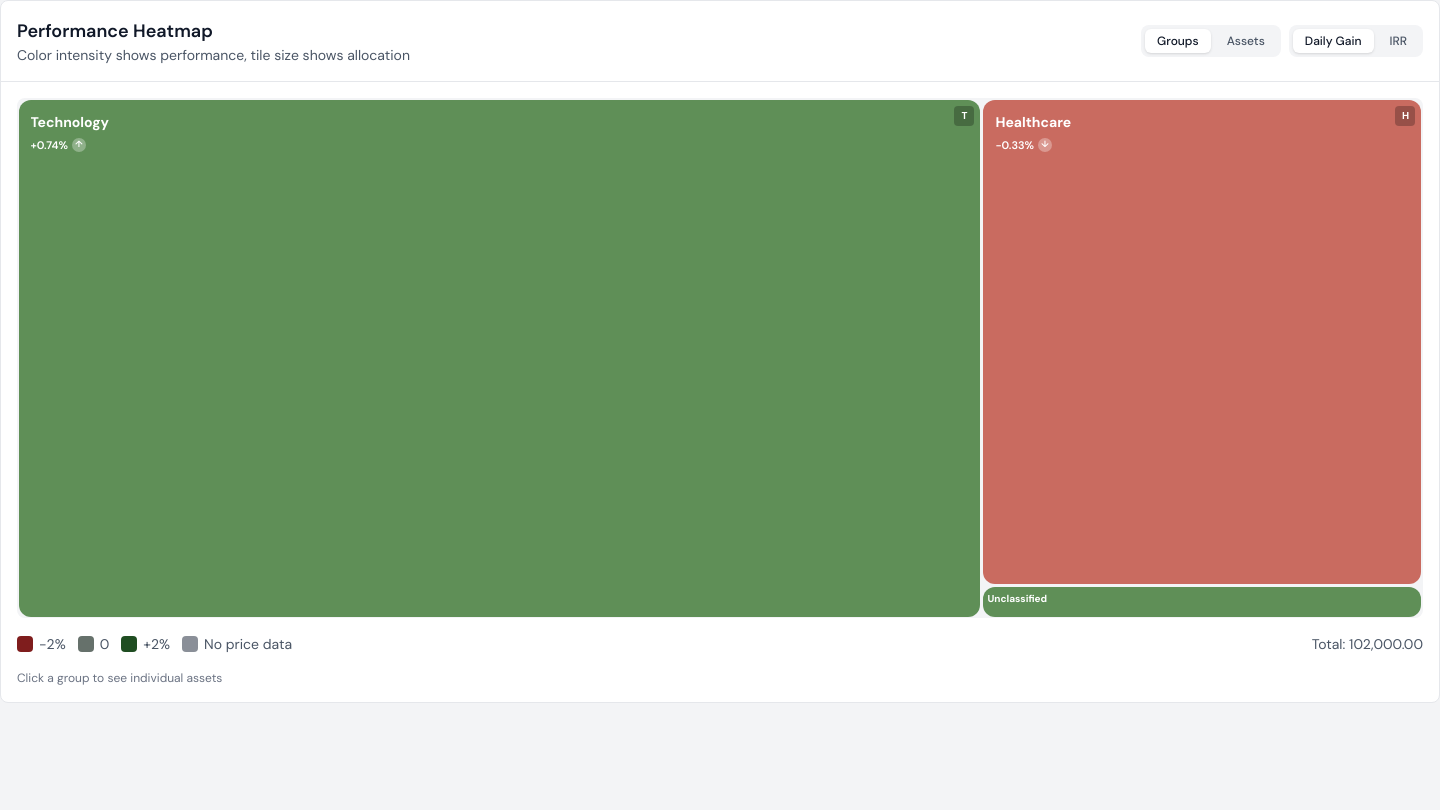
PerformanceHeatmap › Groups mode opens a dialog listing a sector group's assets on click, merging assets across differing asset categories
Click the element with test id "heatmap-tile-groups-Technology" at (499, 358), box 18,100 -> 980,616
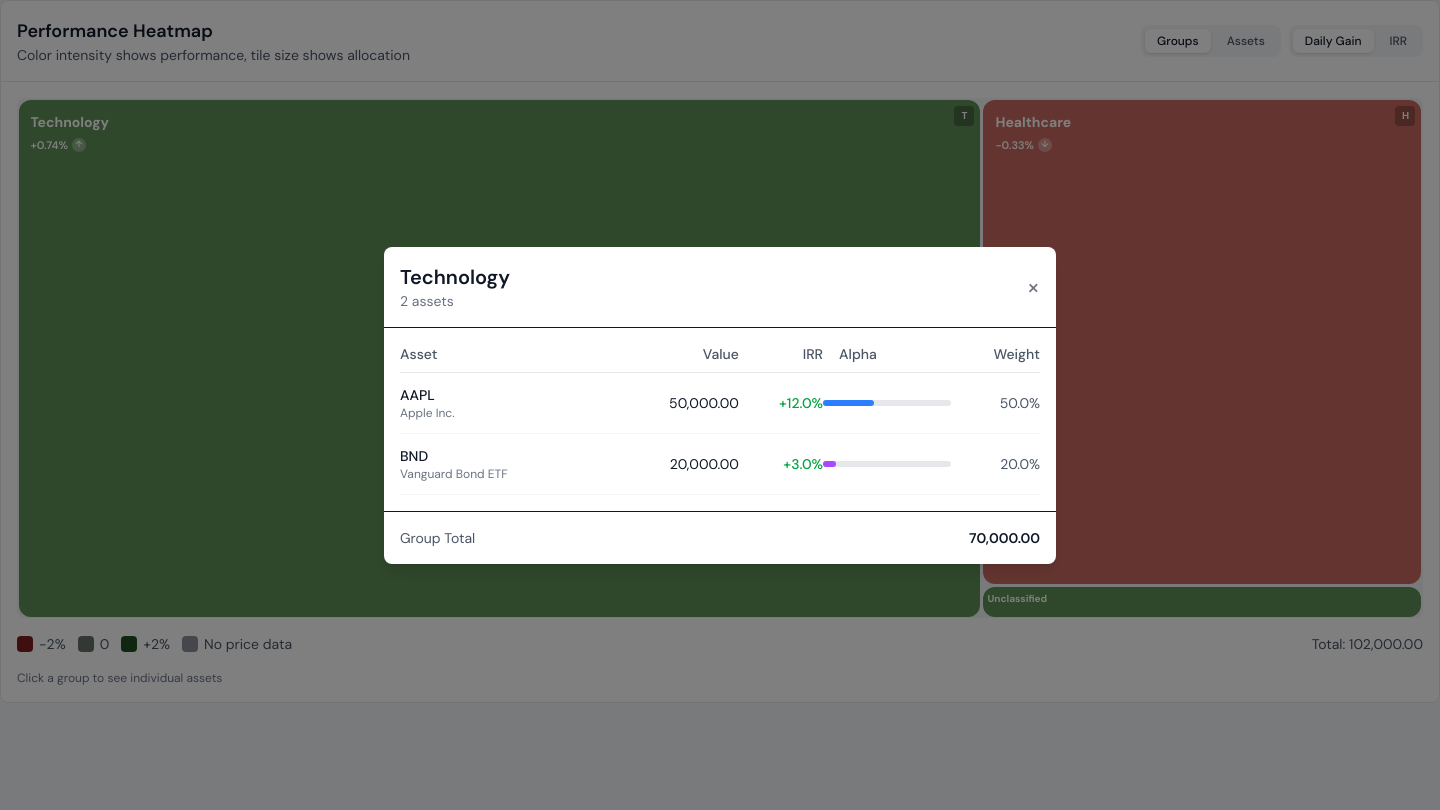
Expected: the text "Apple Inc." is shown, 400,404 -> 455,420
Expected: the text "Vanguard Bond ETF" is shown, 400,466 -> 508,482
